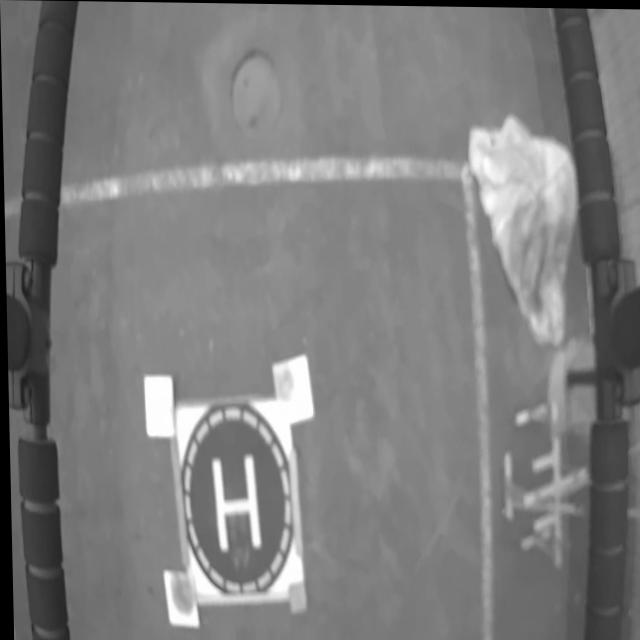Helipad: (209, 454, 259, 554)
